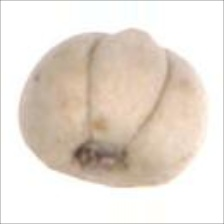L5: (85, 27, 171, 147), (63, 138, 138, 188)
L6: (17, 26, 209, 192)
